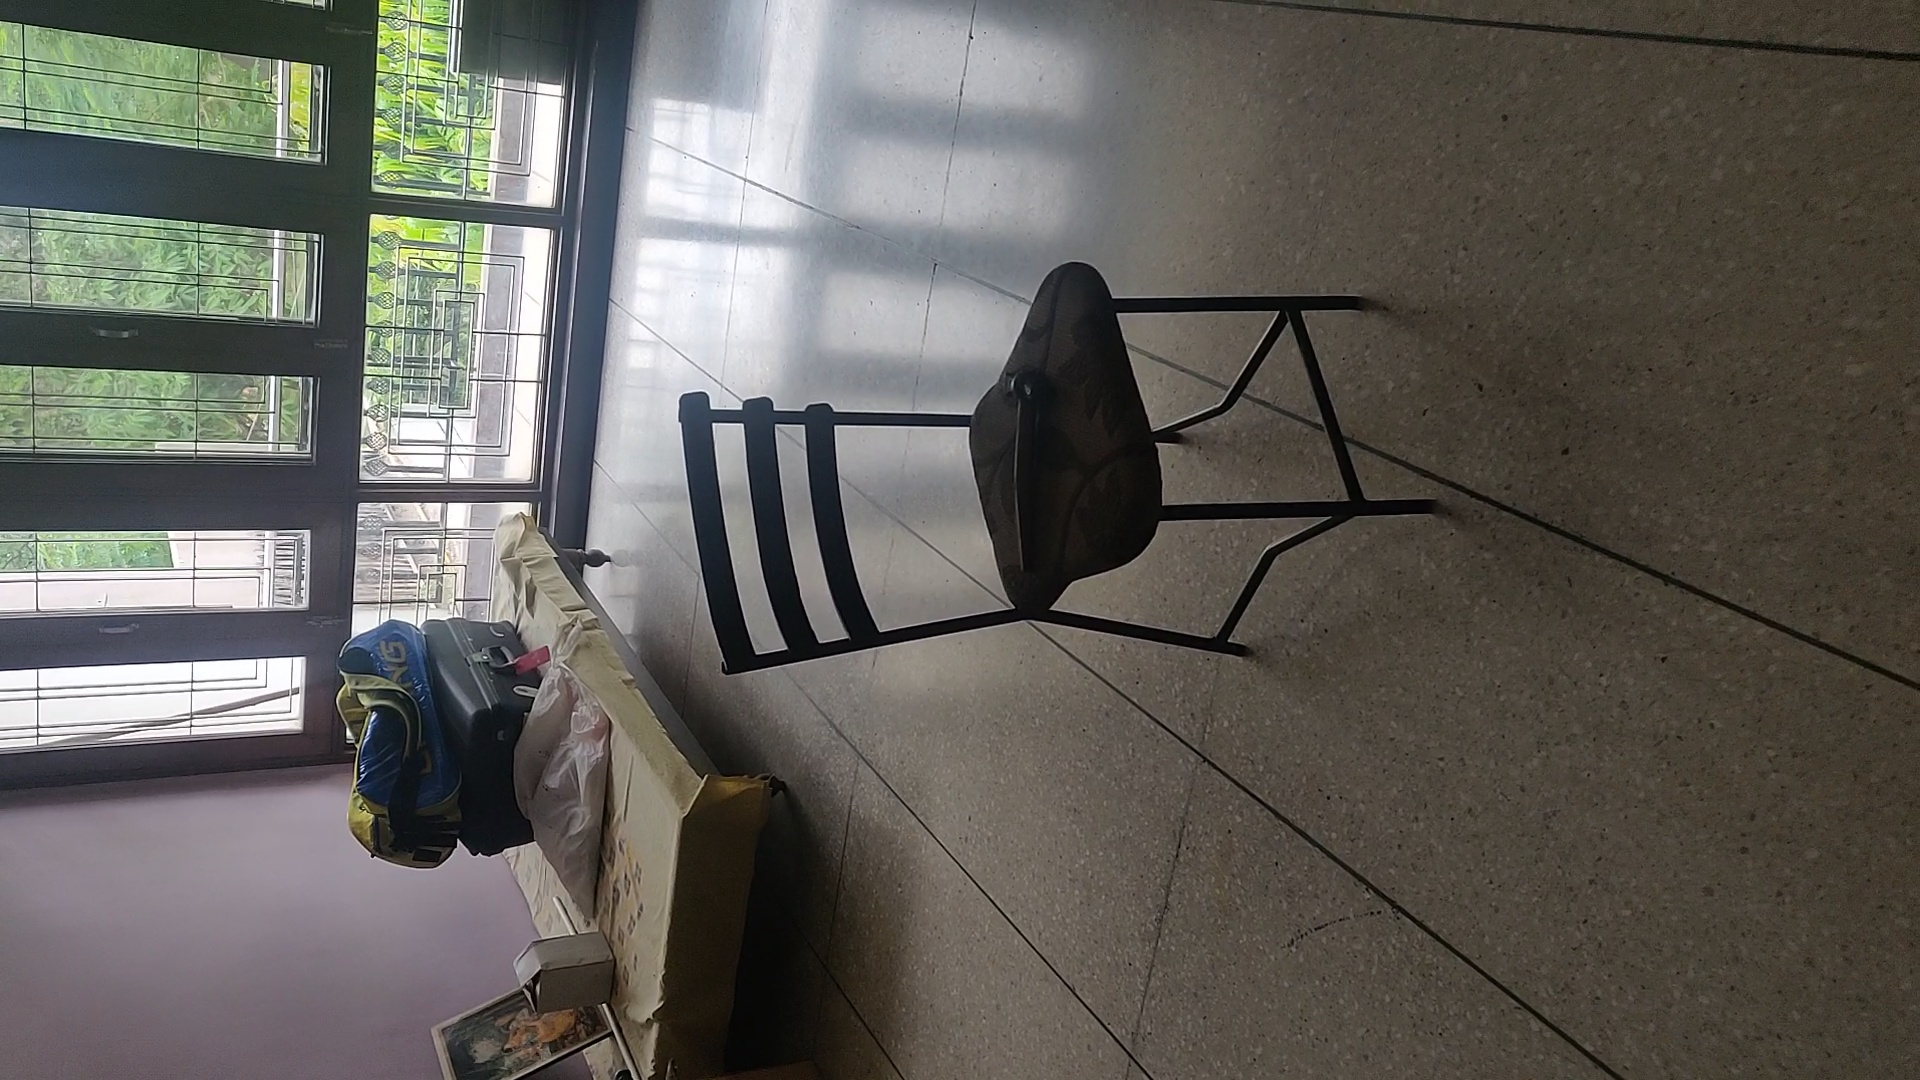hammer: (1006, 369, 1065, 572)
